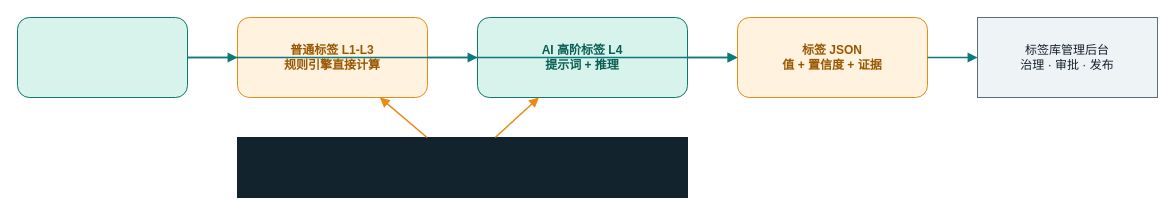
The diagram is 1175 pixels wide and 215 high, and some of its shapes have lost their labels. Each missing label, with the box of its shape:
Knowhow 支撑：K1指标口径 · K2基准阈值 · K3场景知识 · K4动作库: (236, 136, 688, 198)
企业-门店宽表: (16, 16, 188, 98)
